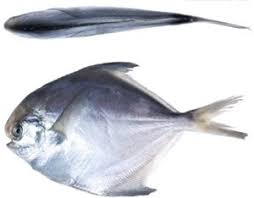Ikan Bawal: (1, 64, 252, 198)
